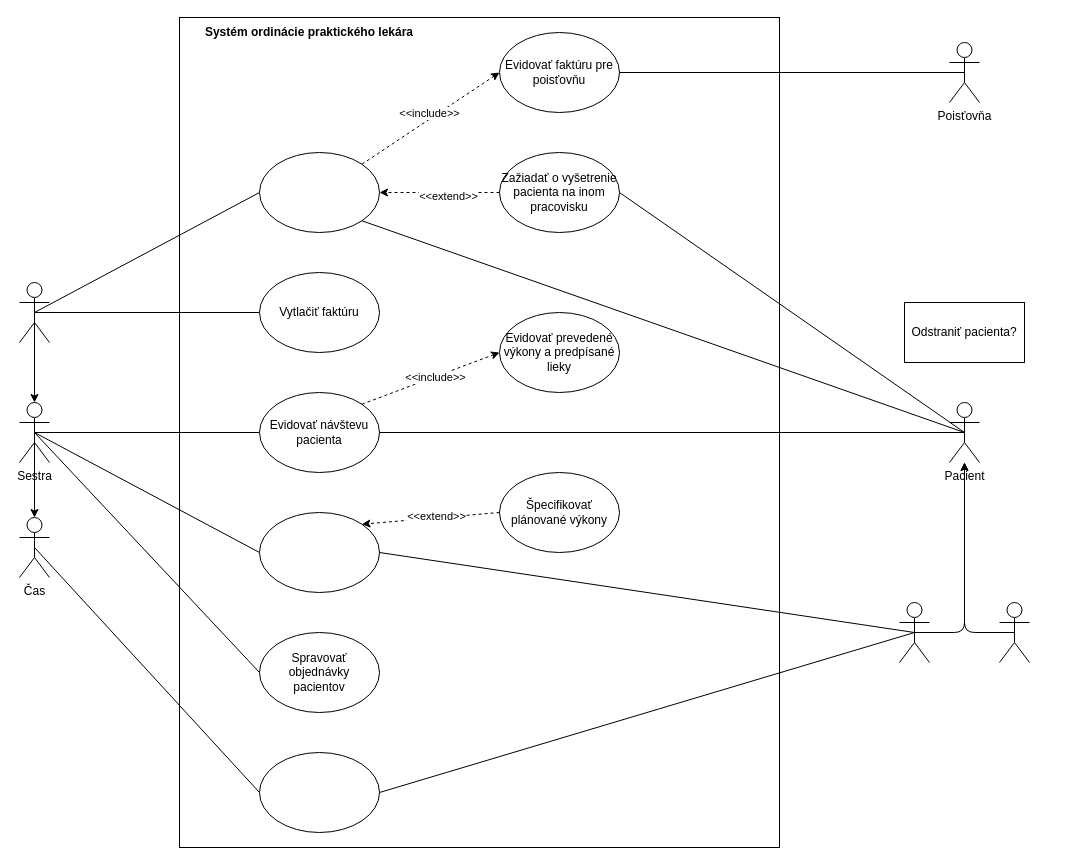
Image size: 1072x866. Some labels were removed from this diagram. The centre of each missing label's shape, as x and y in pixels:
Cudzí pacient - akútny prípad: (1014,632)
Lekár: (34,312)
Objednať pacienta na daný termín: (319,552)
Ošetriť pacienta: (319,192)
Pozvať pacienta na prehliadku alebo očkovanie: (319,792)
Vlastný pacient - objednaný: (914,632)
